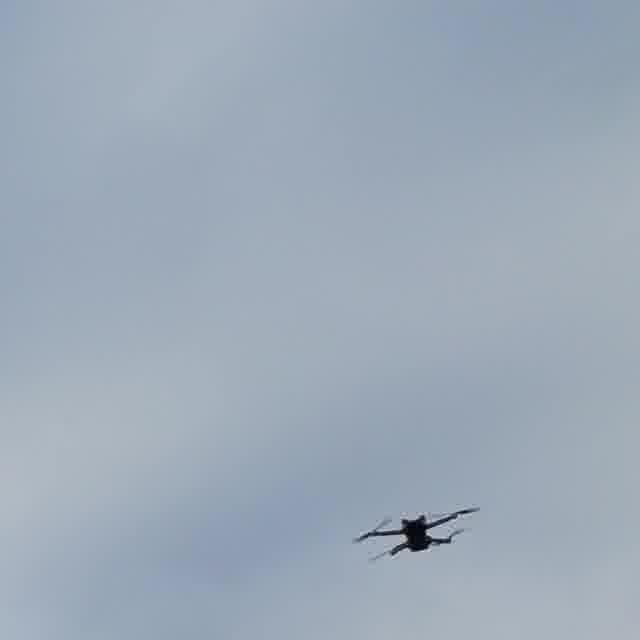Drohne: (354, 508, 478, 559)
